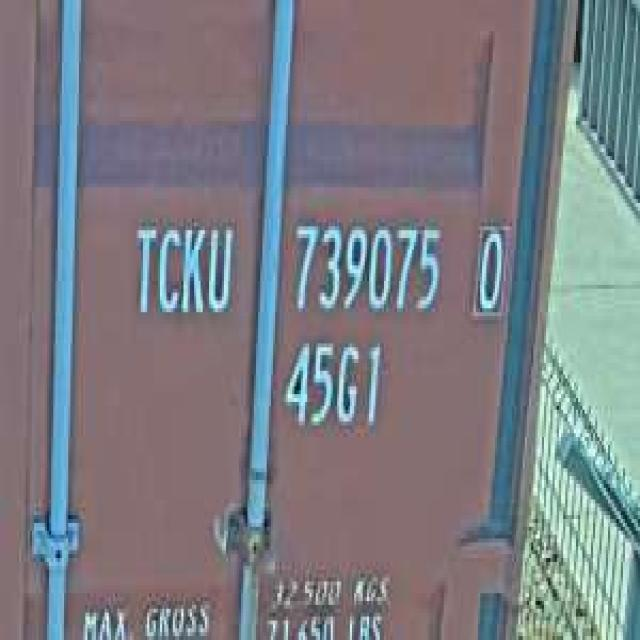dv: (467, 211, 510, 324)
owner: (128, 211, 235, 328)
serial: (284, 211, 446, 324)
size: (277, 332, 386, 441)
